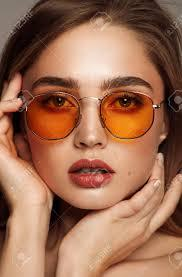sunglasses: (22, 85, 160, 148)
